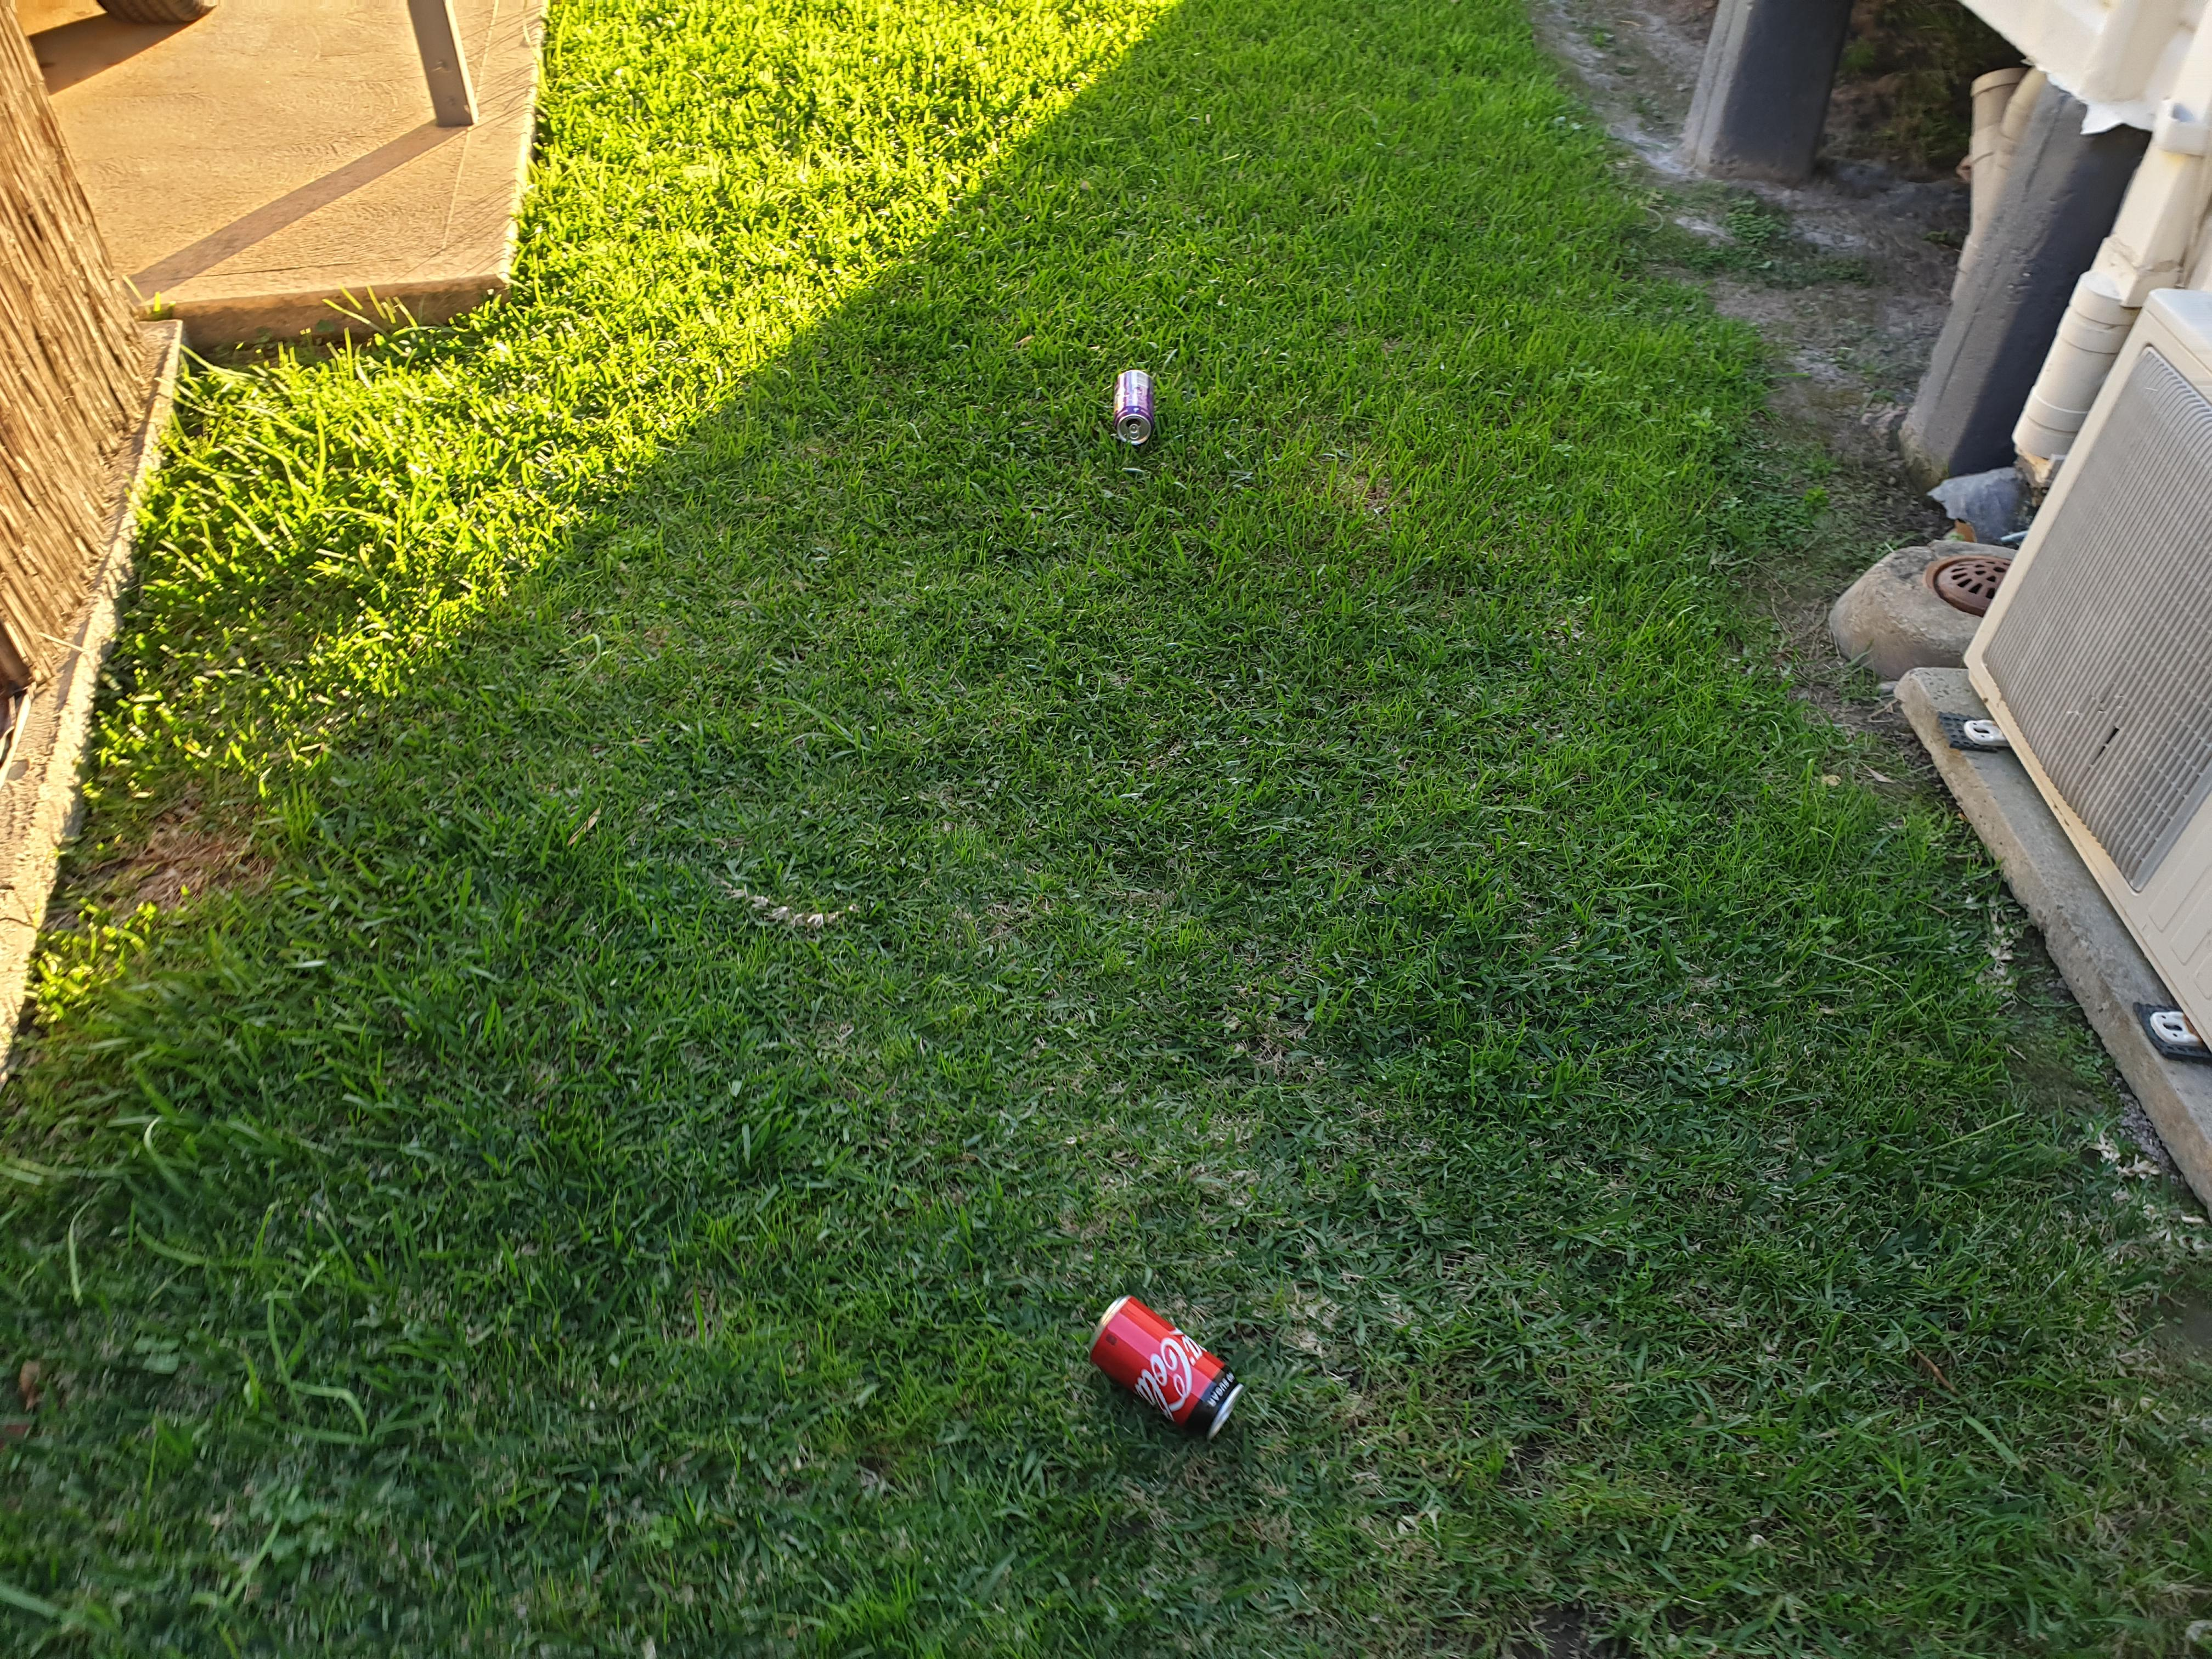Plastic Bottle: (1089, 1295, 1244, 1439), (1111, 369, 1157, 444)
